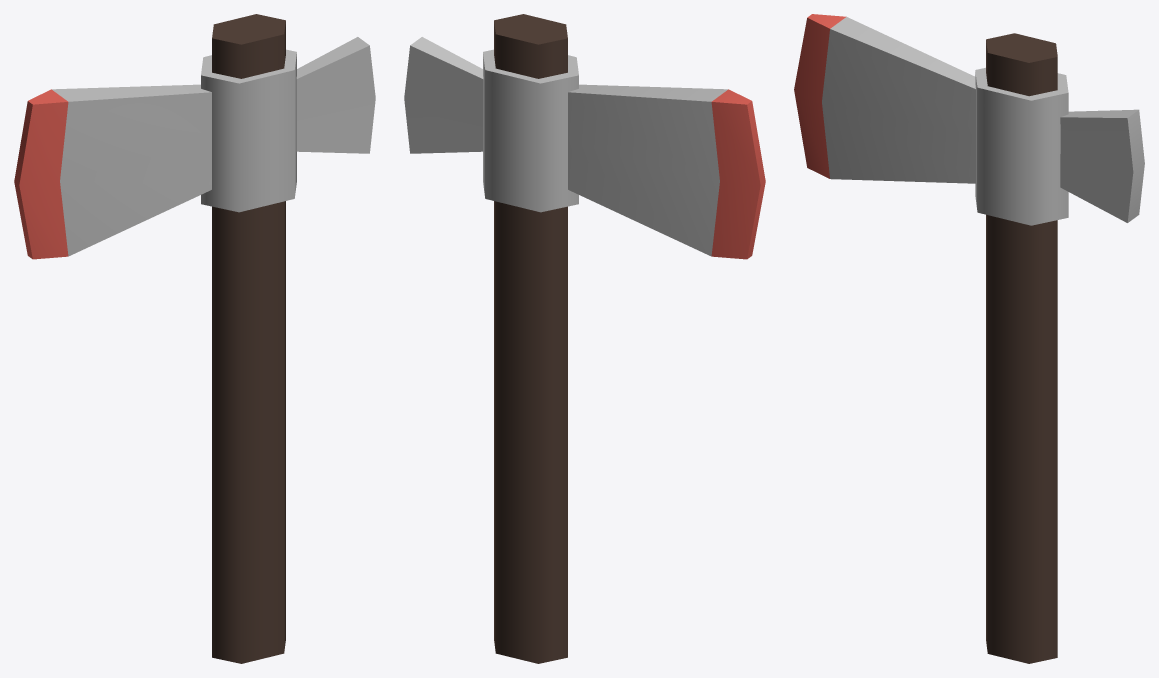
The model's file is axe.fbx.
The picture shows the model from 3 angles, left to right: view 1: azimuth 30°, elevation 25°; view 2: azimuth 150°, elevation 25°; view 3: azimuth 330°, elevation 25°; orthographic projection. The views are drawn at different scales.
Visible parts, largest first — view 1: Axe; view 2: Axe; view 3: Axe.
Boxes of the visible parts, <box> form: Axe: <box>14,14,375,663</box>; Axe: <box>404,14,765,663</box>; Axe: <box>794,14,1144,663</box>.
Bounding box in the file's own units: 47.73 × 80 × 8.43.
